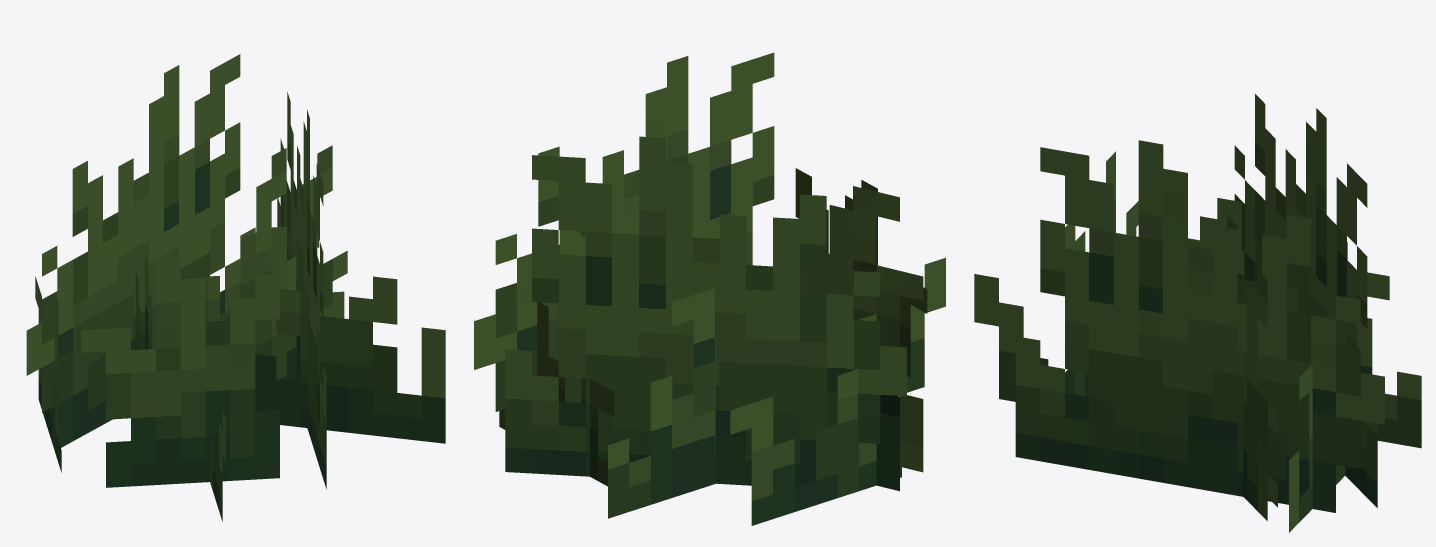
Rendered from grass-3.gltf.
3 renders of one model, left to right at view 1: azimuth 30°, elevation 25°; view 2: azimuth 150°, elevation 25°; view 3: azimuth 270°, elevation 25°, orthographic. The views are drawn at different scales.
Visible parts, largest first — view 1: cube; view 2: cube; view 3: cube.
Boxes of the visible parts, x1=… form: cube: x1=26, y1=54, x2=445, y2=521; cube: x1=474, y1=52, x2=945, y2=525; cube: x1=974, y1=94, x2=1421, y2=532.
Bounding box in the file's own units: 1.04 × 0.875 × 1.05.
Materials: 1 (1 with a texture image).
